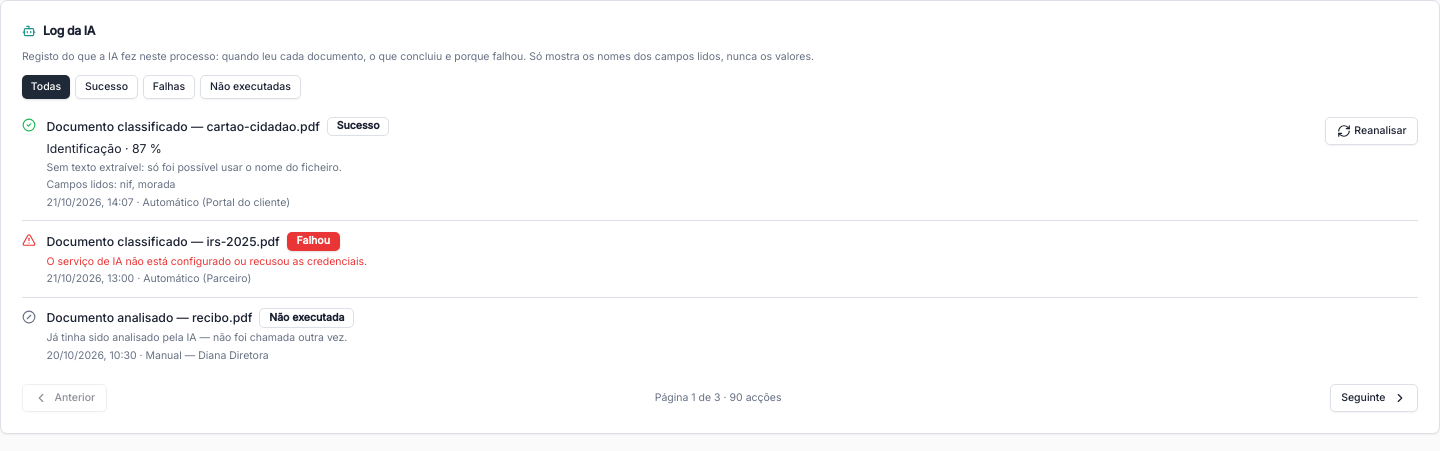
Test: filtros e páginas › filtrar por estado pede ao servidor e volta à página 1
This screenshot has width=1440, height=451.
Click the button "Seguinte". click: (1374, 398)
box: [1330,384,1418,412]
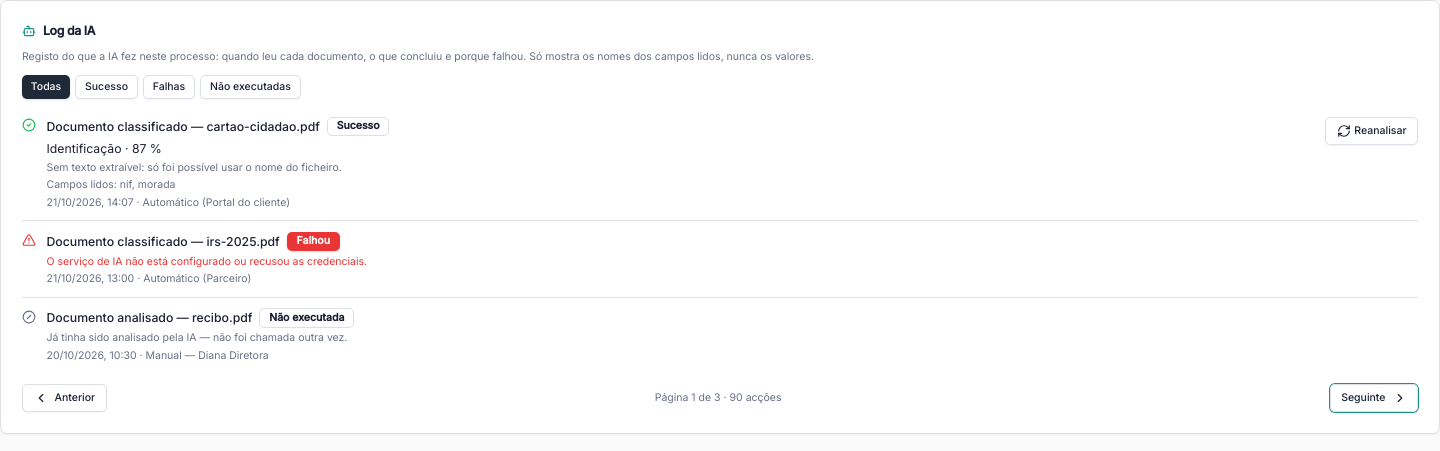
Click the button "Falhas". click: (169, 87)
box: [143,74,195,99]
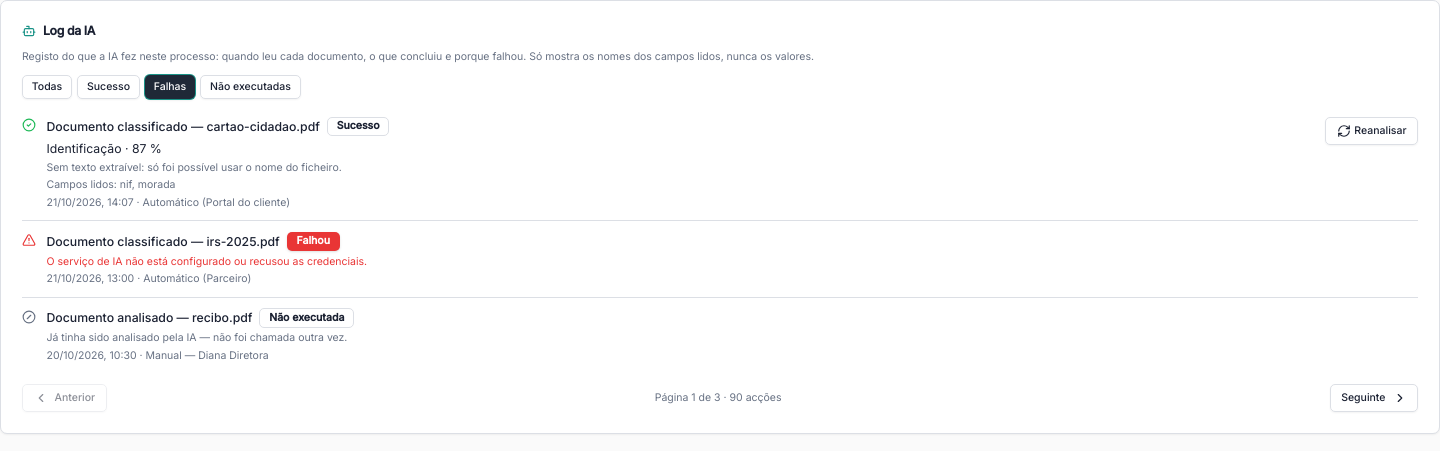
Expected: the button "Falhas" is pressed, [145,74,195,99]
